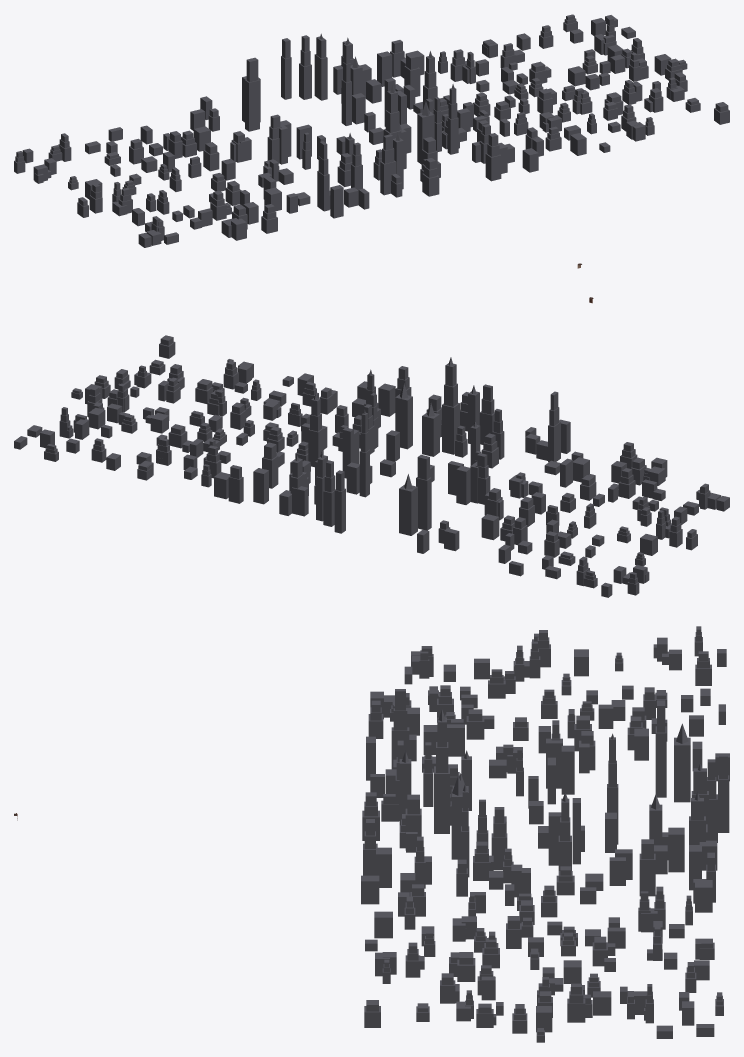
File: rooftop.glb
The picture shows the model from 3 angles, top to bottom: view 1: azimuth 30°, elevation 25°; view 2: azimuth 150°, elevation 25°; view 3: azimuth 270°, elevation 25°; orthographic projection. The views are drawn at different scales.
Visible parts, largest first — view 1: skyline; view 2: skyline; view 3: skyline.
Part boxes in pixels (x1=…): skyline: x1=14, y1=14, x2=729, y2=247; skyline: x1=14, y1=335, x2=729, y2=597; skyline: x1=361, y1=626, x2=729, y2=1042.
Size of the model in its own units: 2221 by 320 by 1717.
4 materials, 3 textured.
